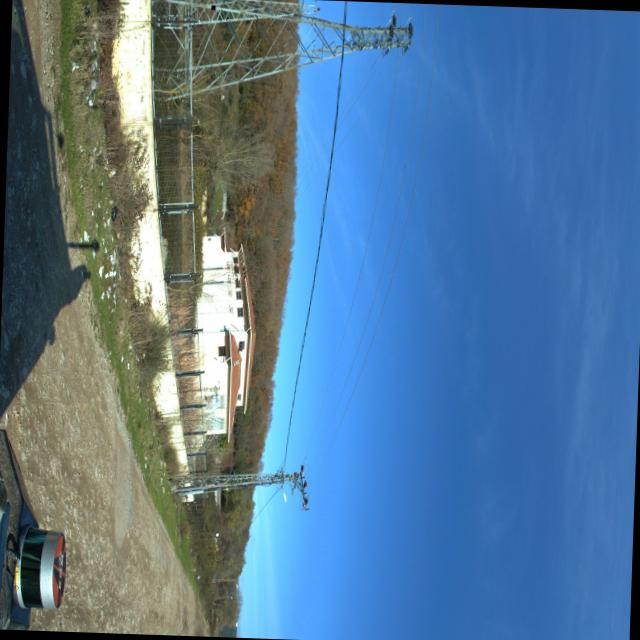Utility Pole Information Plate: (210, 5, 214, 9)
